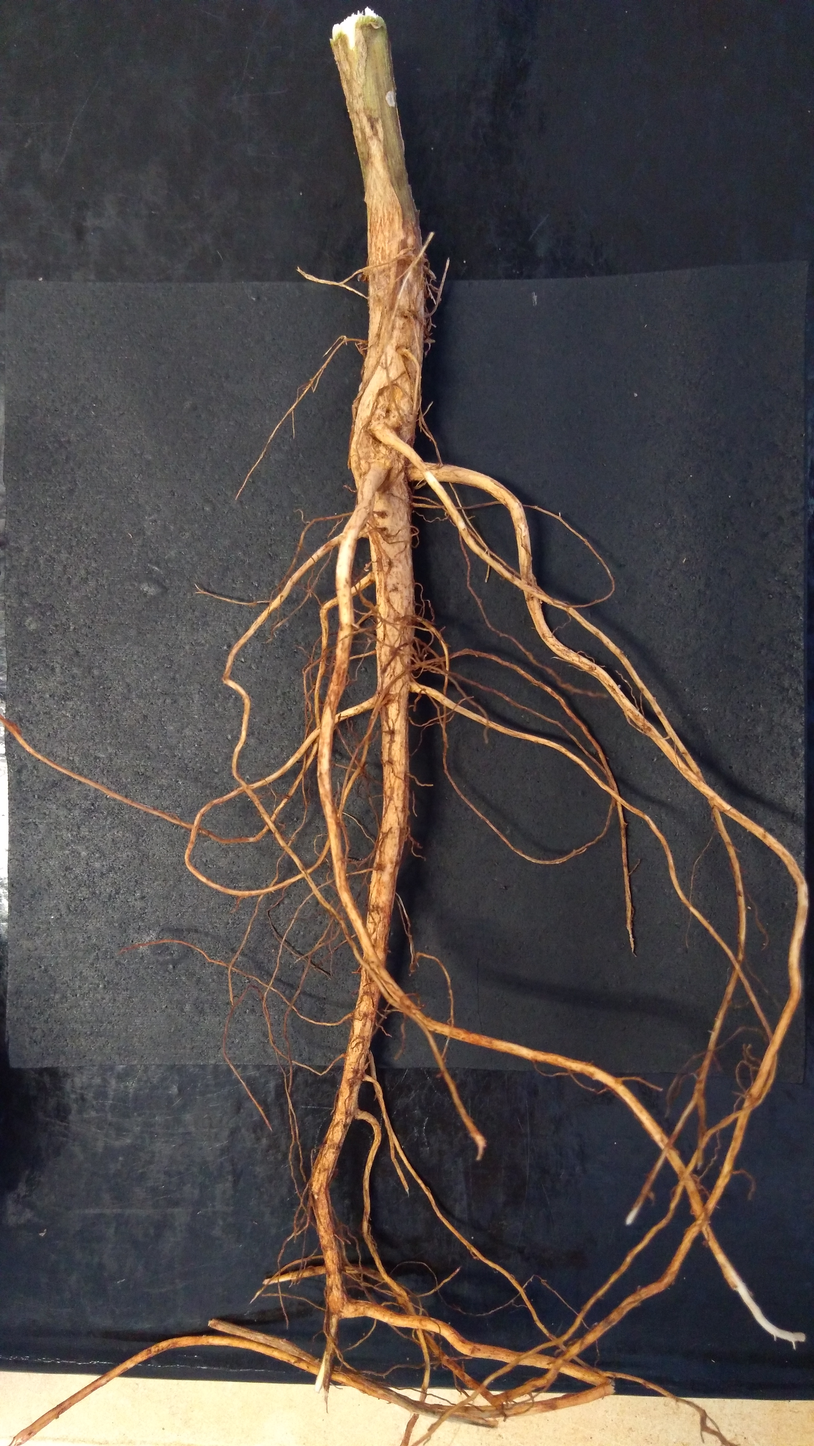nodule: (395, 247, 414, 262), (358, 341, 368, 358), (409, 961, 418, 973), (365, 563, 369, 569)
